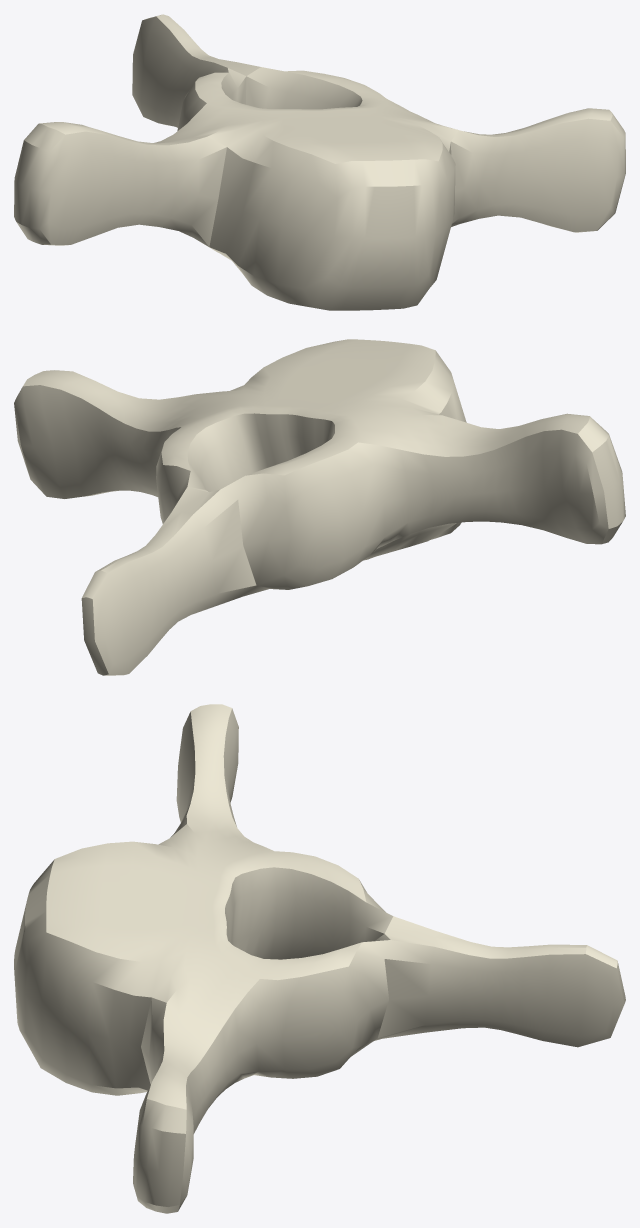
File: Os_DOS.fbx
3 renders of one model, top to bottom at view 1: azimuth 30°, elevation 25°; view 2: azimuth 150°, elevation 25°; view 3: azimuth 270°, elevation 25°, orthographic. The views are drawn at different scales.
Parts seen in each view (by area): view 1: Os'Dos; view 2: Os'Dos; view 3: Os'Dos.
Part boxes in pixels (<box>): Os'Dos: <box>14,14,625,310</box>; Os'Dos: <box>14,339,625,675</box>; Os'Dos: <box>14,704,625,1213</box>.
Bounding box in the file's own units: 476 × 164 × 396.
